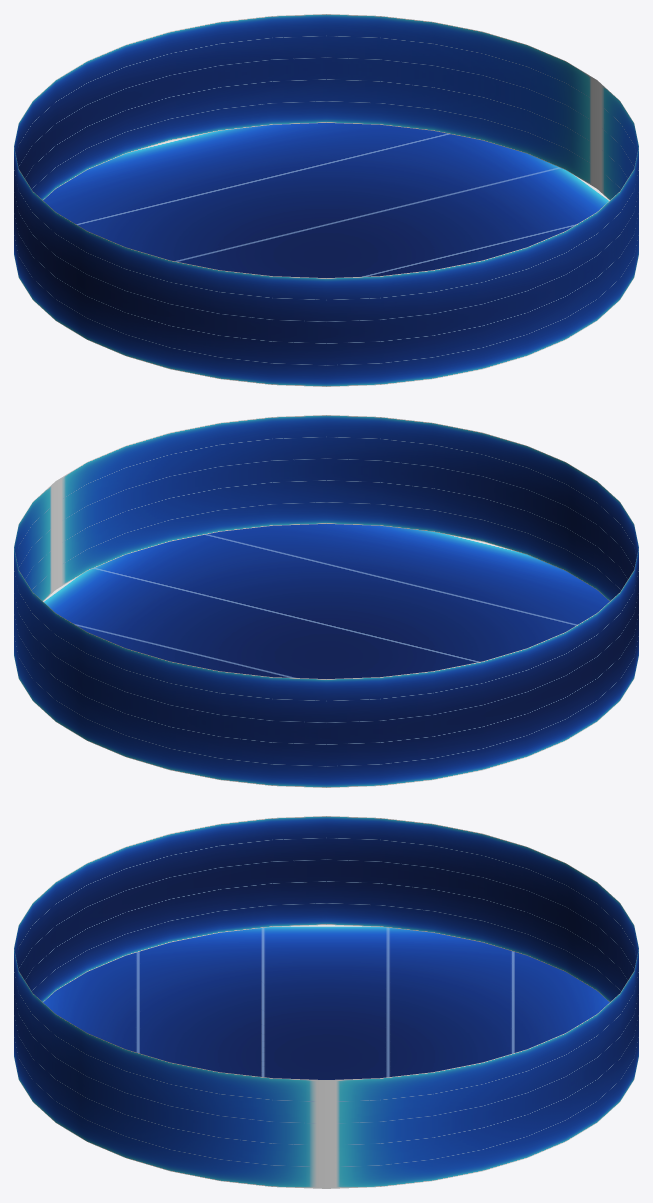
The model's file is shuiyuanjin.gltf.
3 renders of one model, top to bottom at view 1: azimuth 30°, elevation 25°; view 2: azimuth 150°, elevation 25°; view 3: azimuth 270°, elevation 25°, orthographic.
Parts seen in each view (by area): view 1: 圆柱.1; view 2: 圆柱.1; view 3: 圆柱.1.
Part boxes in pixels (x1,y1,x2,y2): 圆柱.1: [14, 14, 638, 386]; 圆柱.1: [14, 415, 638, 787]; 圆柱.1: [14, 816, 638, 1188].
Size of the model in its own units: 13.07 by 2.51 by 13.07.
Materials: 1 (1 with a texture image).
